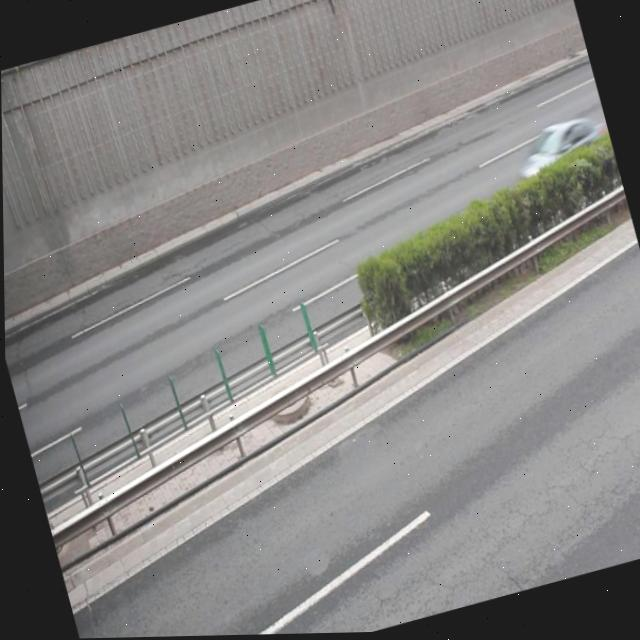car: (506, 117, 607, 207)
